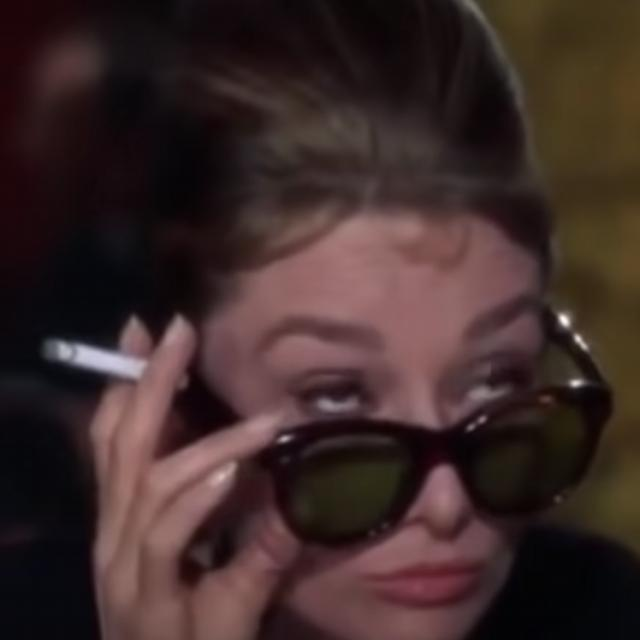cigarette: (39, 322, 148, 398)
